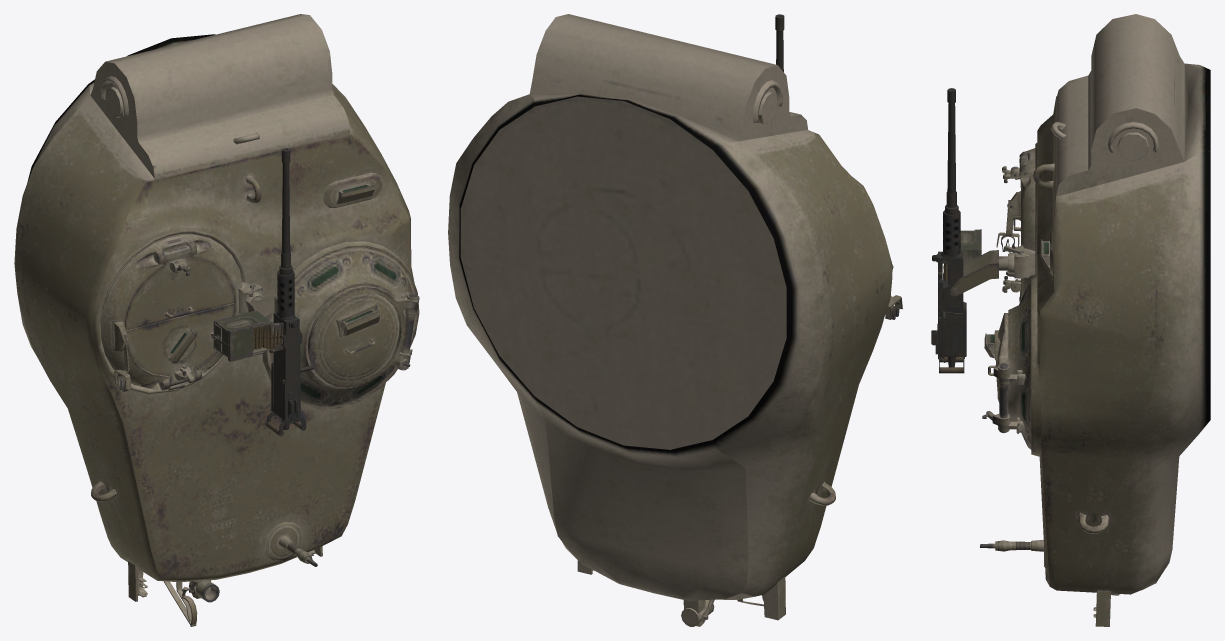
File: Turret_01.glb
3 views of the same model, side by side, from view 1: azimuth 30°, elevation 25°; view 2: azimuth 150°, elevation 25°; view 3: azimuth 270°, elevation 25° (orthographic). The views are drawn at different scales.
Parts seen in each view (by area): view 1: set_0_group_0; view 2: set_0_group_0; view 3: set_0_group_0.
Part boxes in pixels (x1,y1,x2,y2): set_0_group_0: [14, 14, 419, 626]; set_0_group_0: [448, 14, 902, 626]; set_0_group_0: [931, 14, 1210, 626].
Size of the model in its own units: 2.17 by 3.21 by 1.5.
1 material, 1 textured.
